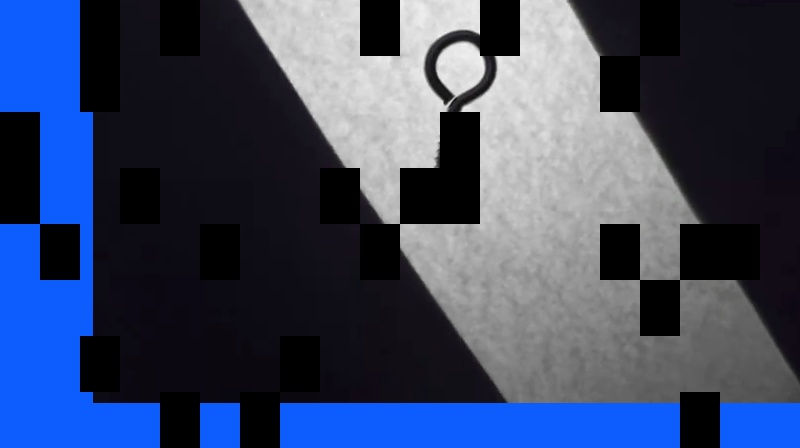O001: (419, 27, 502, 185)
